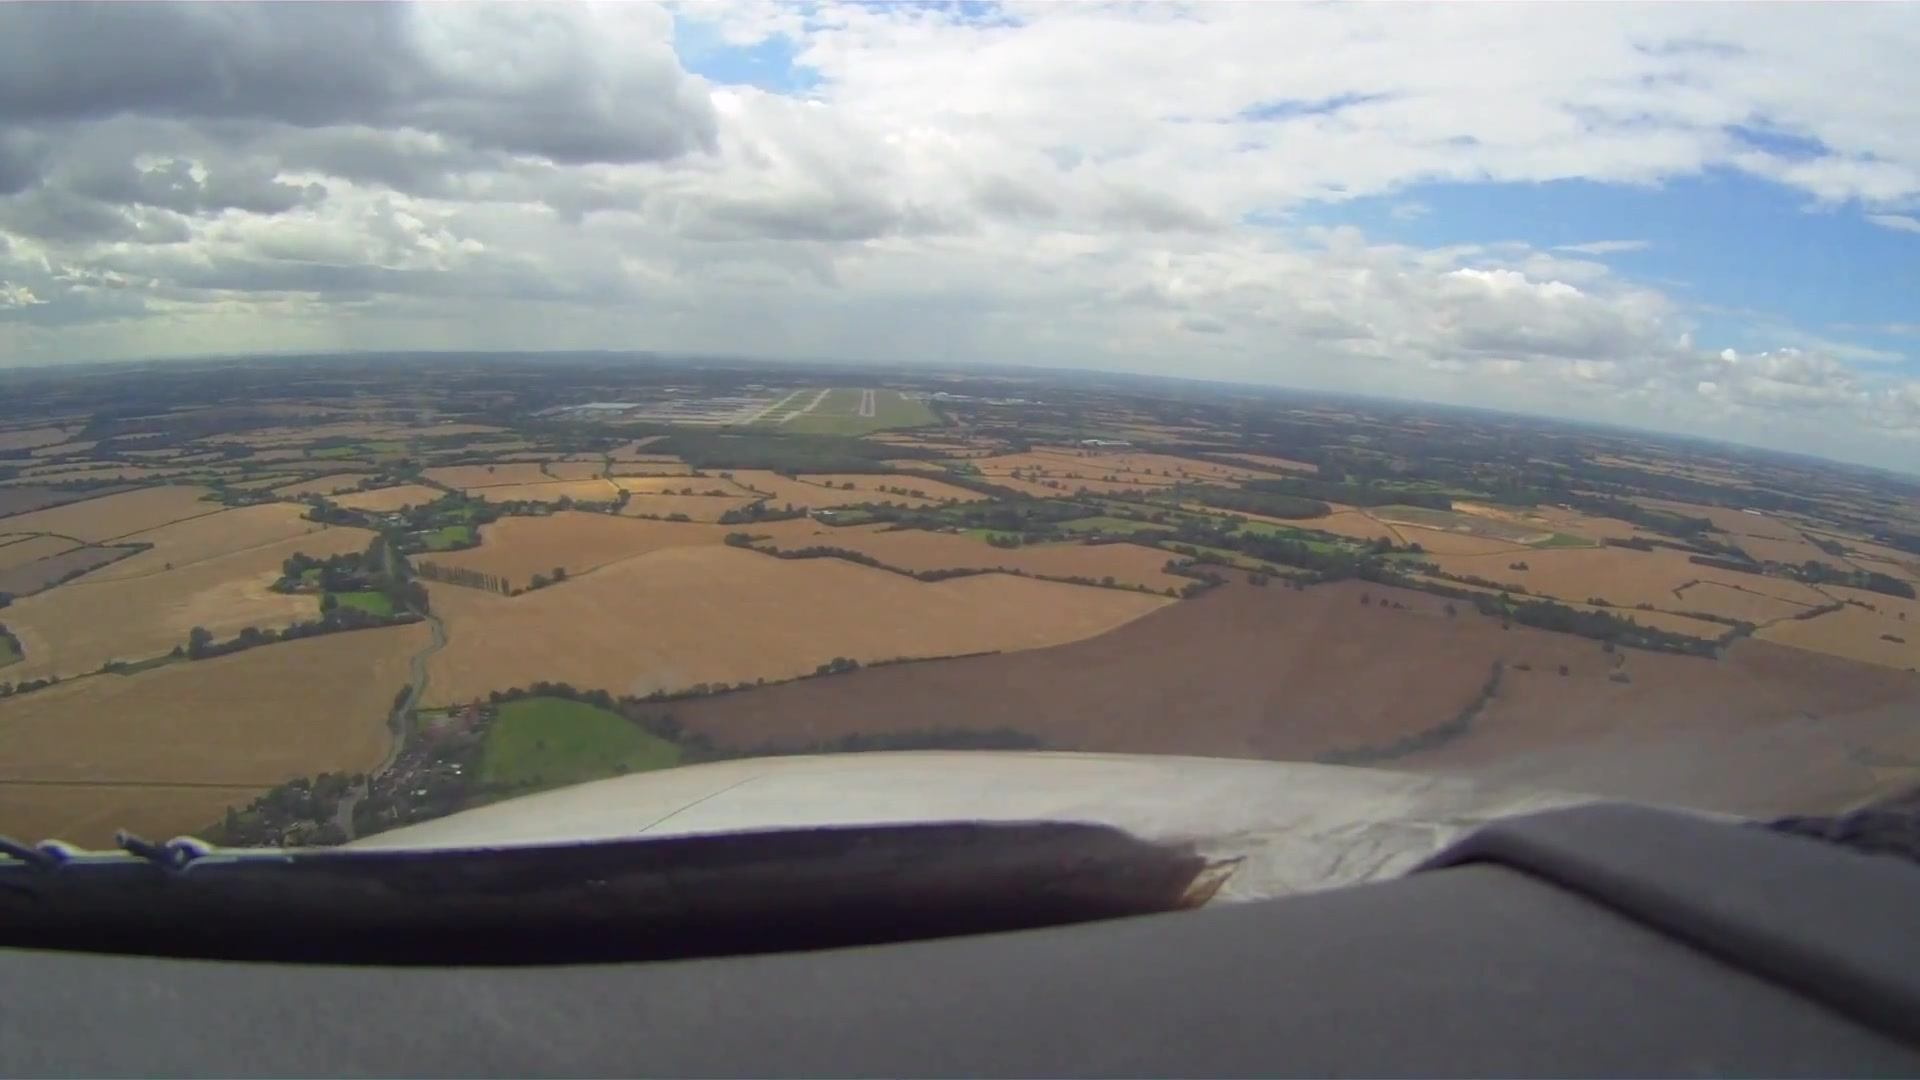runway: (857, 389, 876, 418)
